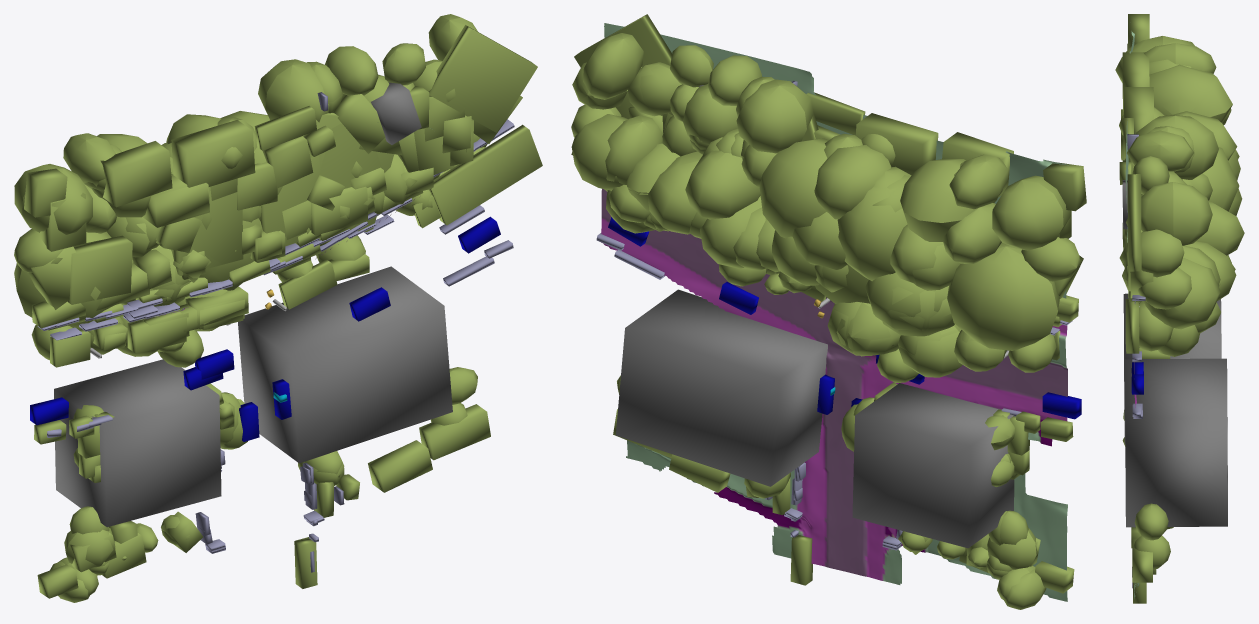
The picture shows the model from 3 angles, left to right: view 1: azimuth 30°, elevation 25°; view 2: azimuth 150°, elevation 25°; view 3: azimuth 270°, elevation 25°; orthographic projection. The views are drawn at different scales.
Size of the model in its own units: 70.31 by 68.52 by 16.03.
